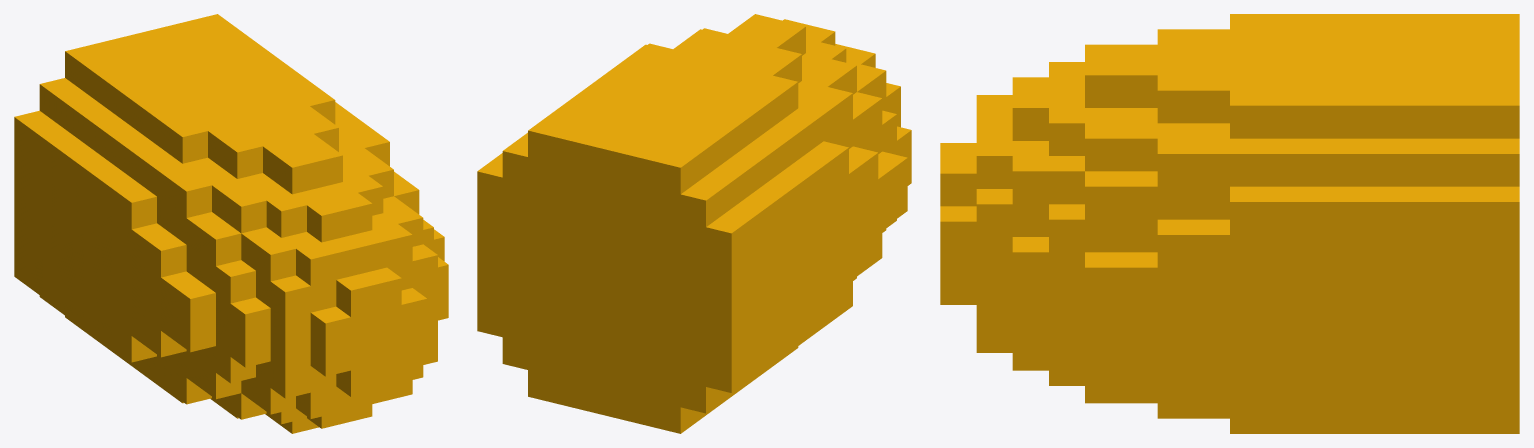
Rendered from Bullet.obj.
The picture shows the model from 3 angles, left to right: view 1: azimuth 30°, elevation 25°; view 2: azimuth 150°, elevation 25°; view 3: azimuth 270°, elevation 25°; orthographic projection. The views are drawn at different scales.
Bounding box in the file's own units: 1 × 1 × 1.6.
Materials: 1 (1 with a texture image).
